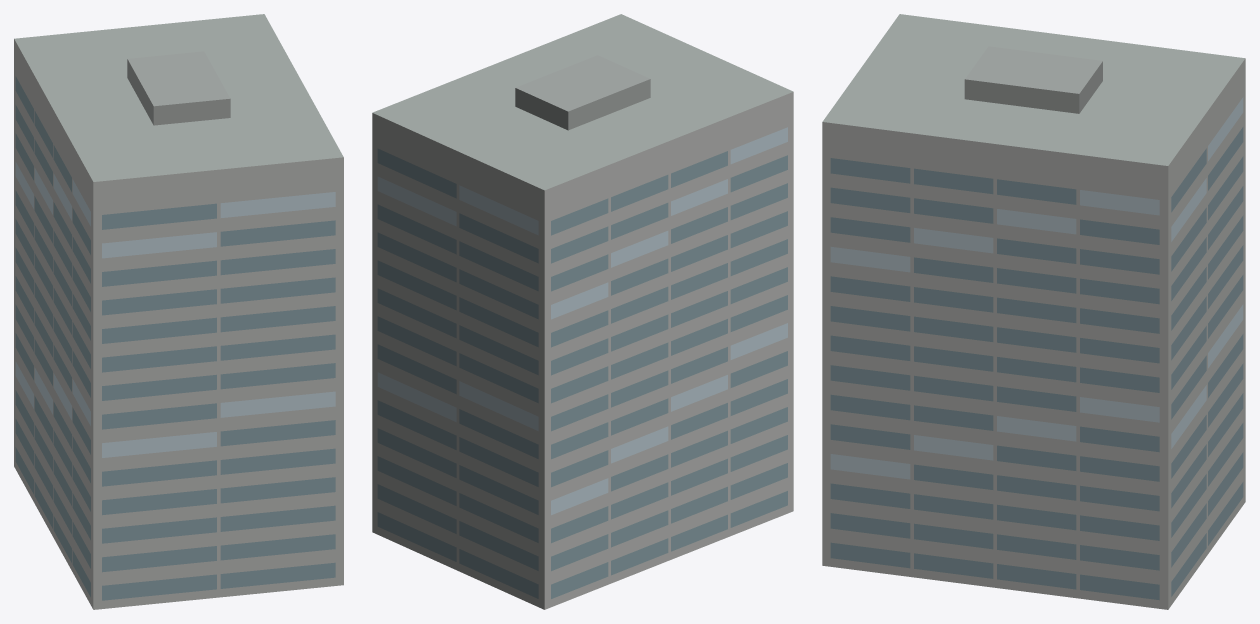
Rendered from fallback-olympic-park-foreon-415.glb.
The picture shows the model from 3 angles, left to right: view 1: azimuth 30°, elevation 25°; view 2: azimuth 150°, elevation 25°; view 3: azimuth 270°, elevation 25°; orthographic projection. The views are drawn at different scales.
Visible parts, largest first — view 1: fallback-olympic-park-foreon-415; view 2: fallback-olympic-park-foreon-415; view 3: fallback-olympic-park-foreon-415.
Boxes of the visible parts, bbox=[...] form: fallback-olympic-park-foreon-415: bbox=[14, 14, 343, 609]; fallback-olympic-park-foreon-415: bbox=[372, 14, 793, 609]; fallback-olympic-park-foreon-415: bbox=[822, 14, 1245, 609].
Size of the model in its own units: 33.63 by 47.81 by 39.53.
